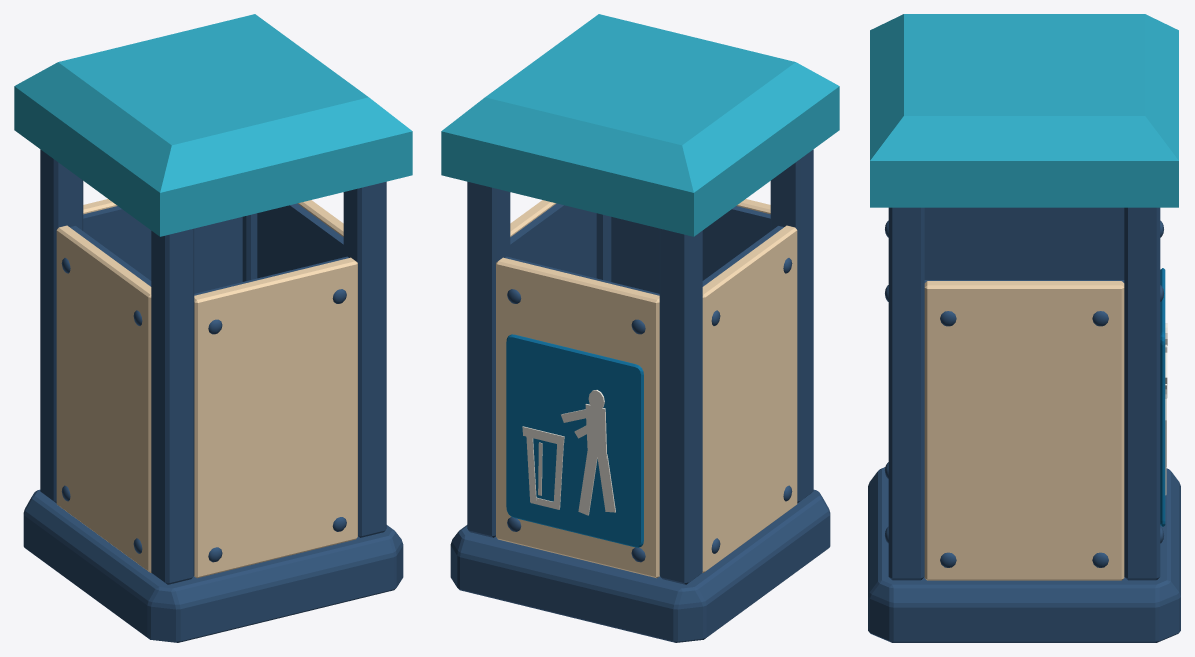
The model's file is bin.glb.
The picture shows the model from 3 angles, left to right: view 1: azimuth 30°, elevation 25°; view 2: azimuth 150°, elevation 25°; view 3: azimuth 270°, elevation 25°; orthographic projection. The views are drawn at different scales.
Parts seen in each view (by area): view 1: roof, wall_back, wall_left, base, post_bl, post_br, post_fl, liner_front, liner_right, post_fr, wall_right; view 2: roof, wall_left, base, sign_plate, wall_front, post_fl, post_fr, post_bl, liner_back, liner_right, post_br, sign_torso (+3 smaller); view 3: wall_right, roof, base, liner_left, post_br, post_fr, sign_plate.
Boxes of the visible parts, bbox=[...] form: roof: bbox=[14, 14, 412, 236]; wall_back: bbox=[194, 257, 357, 578]; wall_left: bbox=[56, 225, 151, 572]; base: bbox=[23, 489, 403, 642]; post_bl: bbox=[151, 228, 194, 584]; post_br: bbox=[343, 181, 386, 537]; post_fl: bbox=[40, 149, 83, 503]; liner_front: bbox=[83, 206, 242, 293]; liner_right: bbox=[257, 203, 343, 278]; post_fr: bbox=[242, 213, 257, 281]; wall_right: bbox=[297, 200, 343, 236]; roof: bbox=[441, 14, 839, 236]; wall_left: bbox=[702, 225, 797, 572]; base: bbox=[450, 489, 830, 642]; sign_plate: bbox=[506, 334, 643, 547]; wall_front: bbox=[496, 257, 659, 578]; post_fl: bbox=[659, 228, 702, 584]; post_fr: bbox=[467, 181, 510, 537]; post_bl: bbox=[770, 149, 813, 503]; liner_back: bbox=[611, 206, 770, 293]; liner_right: bbox=[510, 203, 596, 278]; post_br: bbox=[596, 213, 611, 281]; sign_torso: bbox=[585, 404, 606, 458]; wall_right: bbox=[924, 281, 1124, 580]; roof: bbox=[870, 14, 1178, 207]; base: bbox=[868, 467, 1180, 642]; liner_left: bbox=[924, 207, 1124, 279]; post_br: bbox=[888, 207, 924, 580]; post_fr: bbox=[1124, 207, 1160, 580]; sign_plate: bbox=[1160, 268, 1165, 526].
Bounding box in the file's own units: 0.608 × 1.1 × 0.608.
